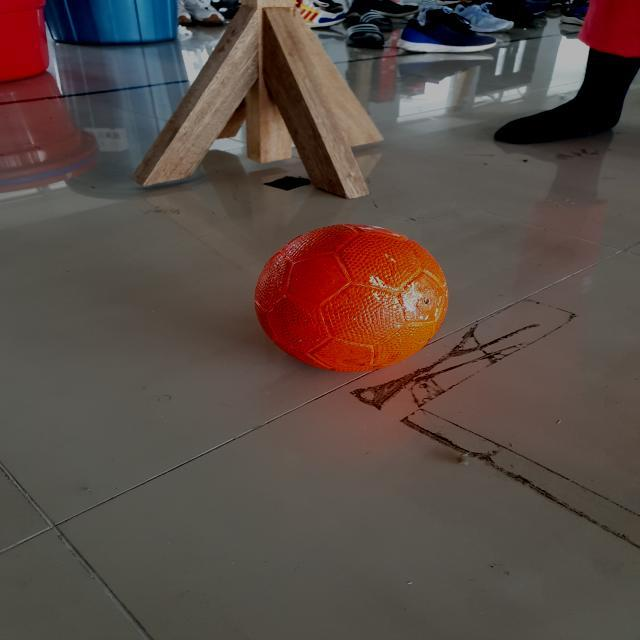bola: (247, 216, 457, 380)
